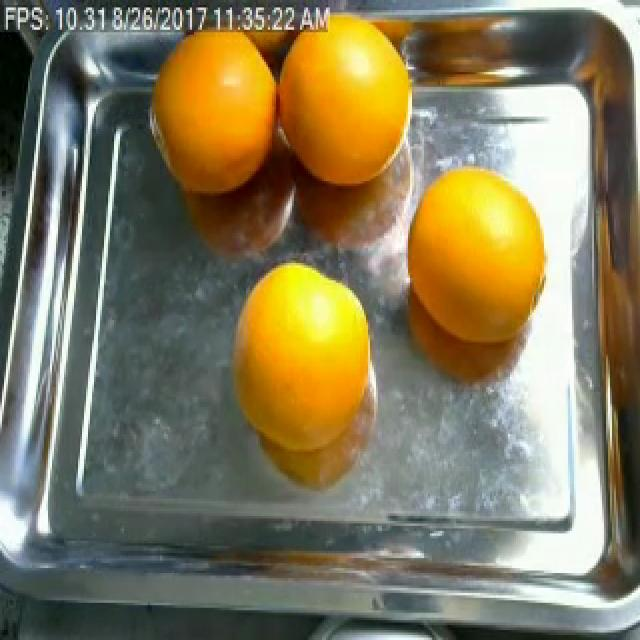Fruit: (218, 246, 382, 439), (262, 10, 412, 216), (132, 15, 288, 213)
